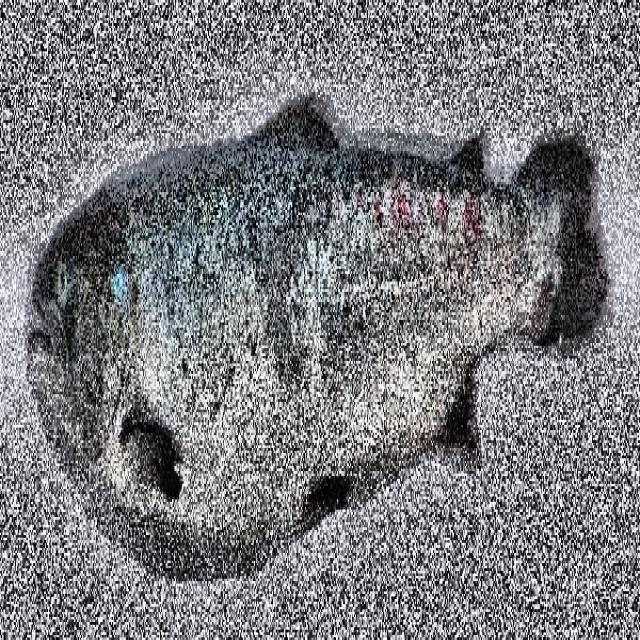mild_red: (79, 97, 579, 558)
